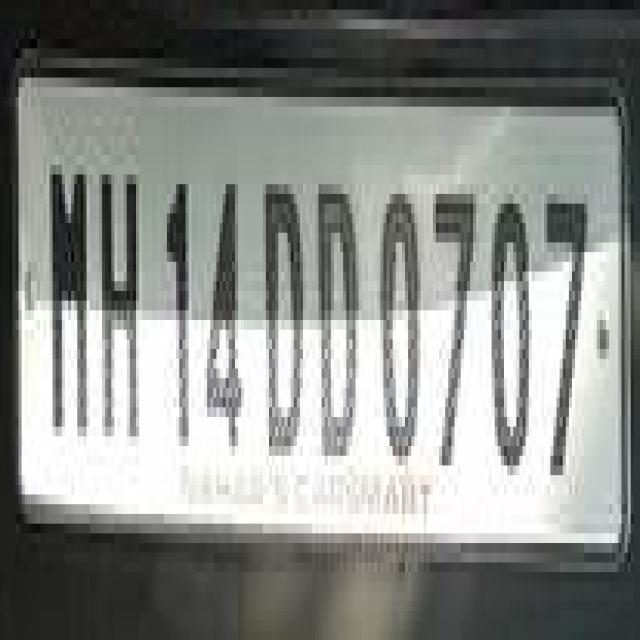license_plate: (0, 68, 618, 553)
